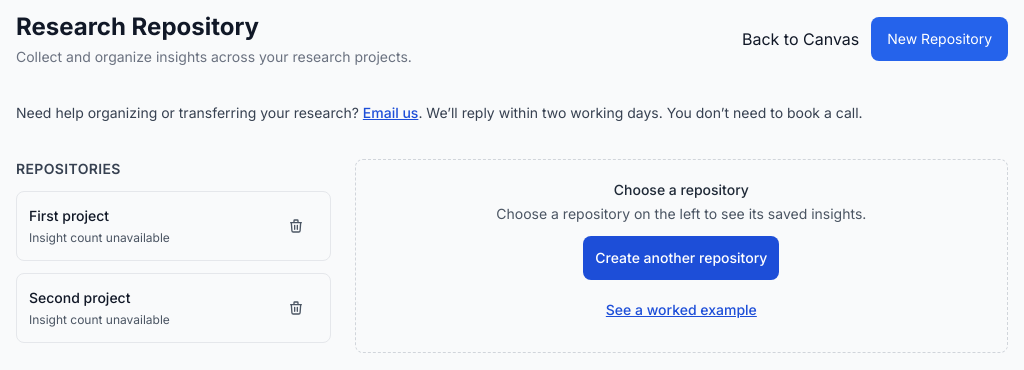
RepositoryPage teaching empty states › ignores a late insight response after choosing a different repository
The image size is (1024, 370).
Click the button with aria-label "Open repository First project" at (151, 226), box [29,204,274,248]
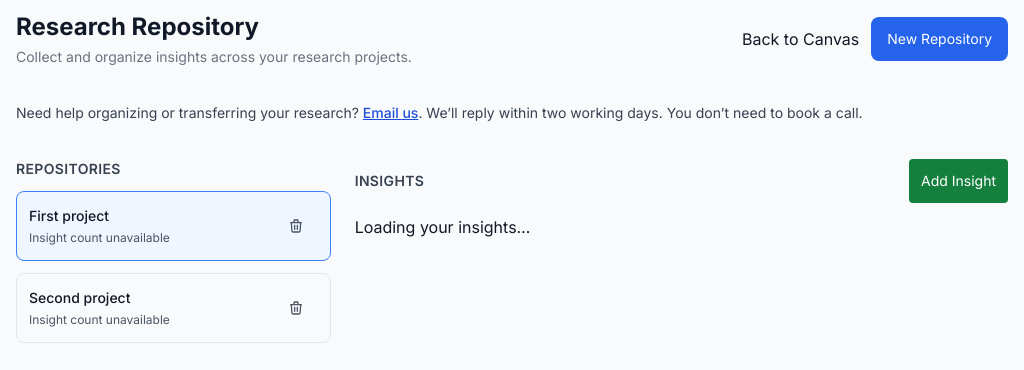
Click the button with aria-label "Open repository Second project" at (151, 308), box [29,286,274,330]
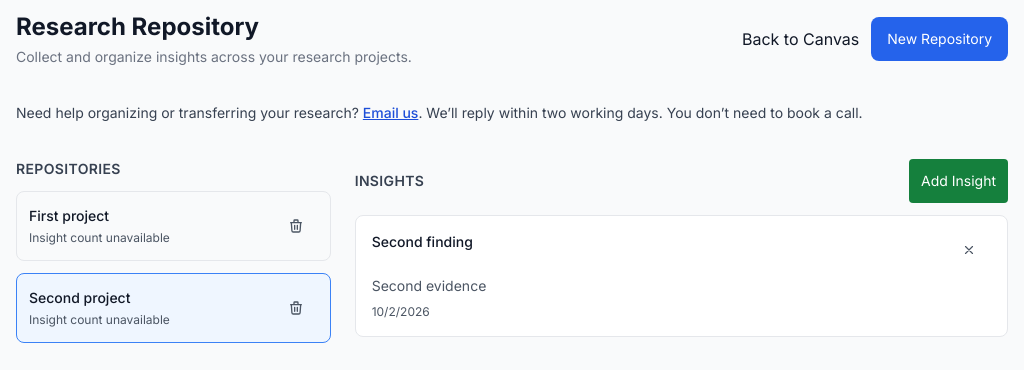
Expected: the heading "Second finding" is shown, [372,232,473,252]
